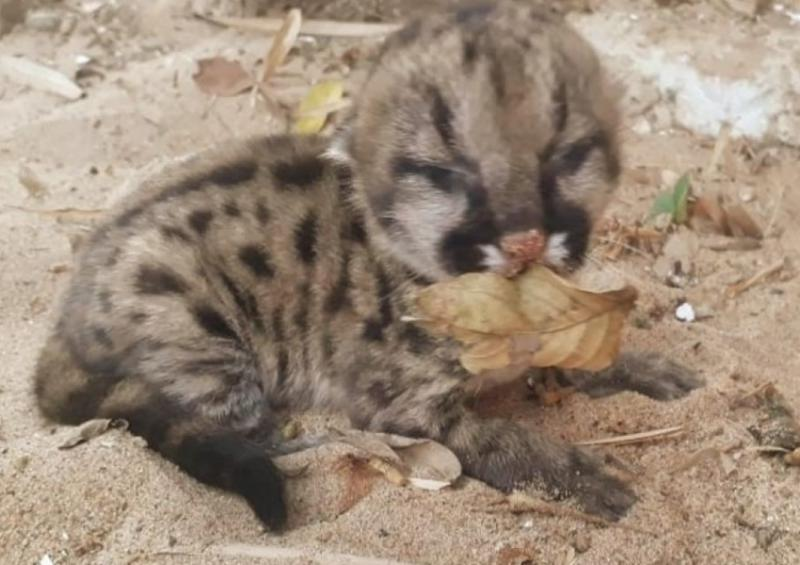OncaParda: (25, 9, 634, 500)
